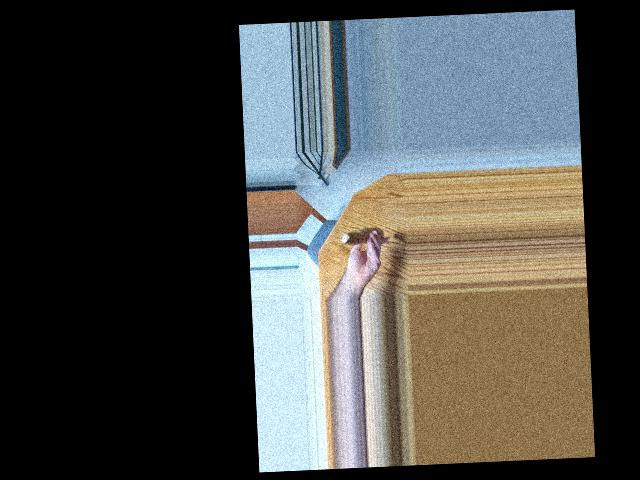sweet_potato: (341, 225, 378, 250)
